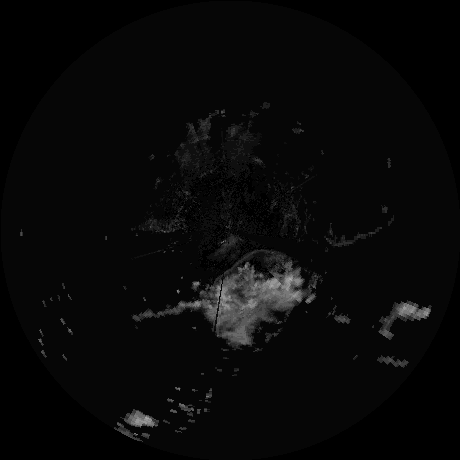frontgust: (219, 249, 286, 278)
